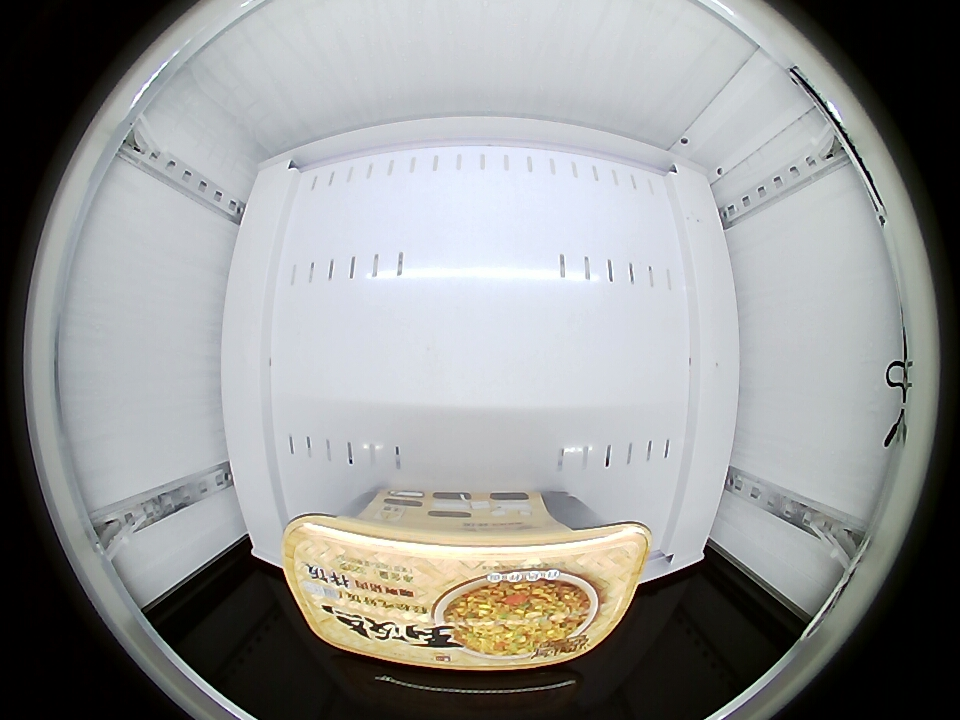daofandian3: (280, 491, 649, 671)
